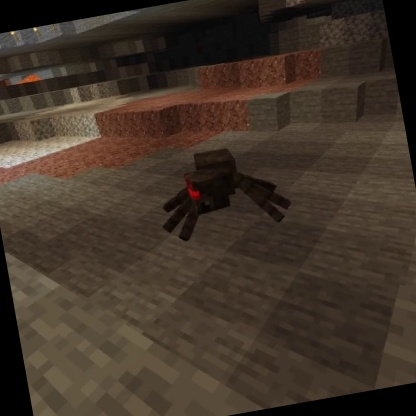spider: (148, 135, 299, 246)
